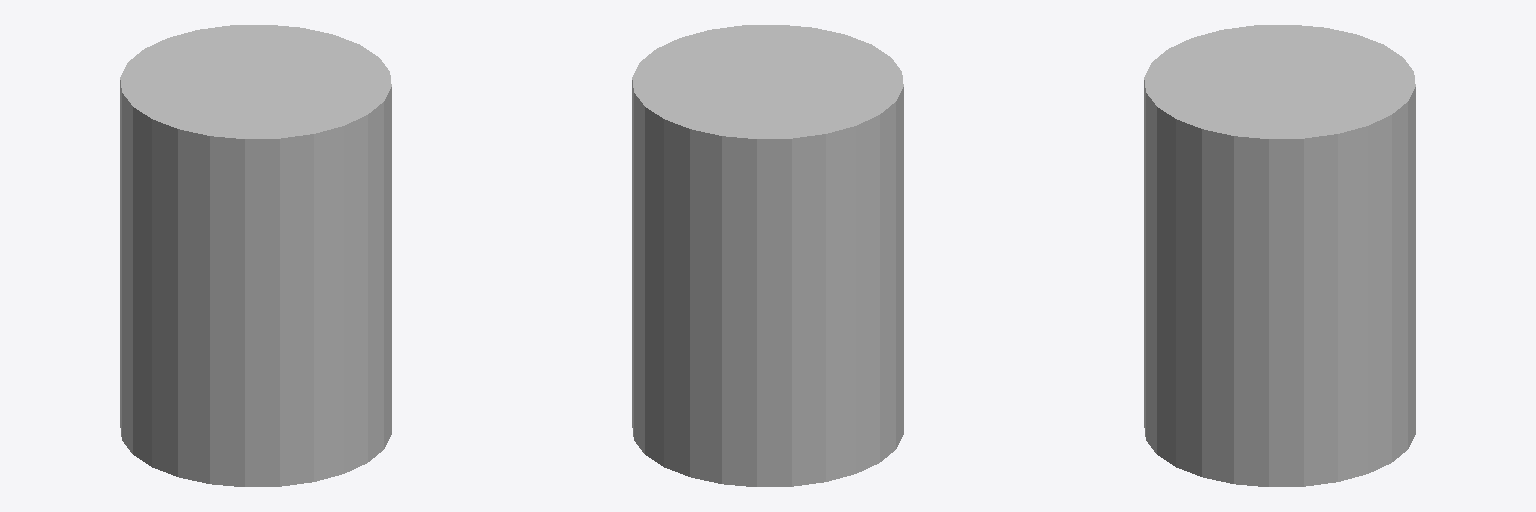
File: cilindro.obj
The picture shows the model from 3 angles: view 1: azimuth 30°, elevation 25°; view 2: azimuth 150°, elevation 25°; view 3: azimuth 270°, elevation 25°; orthographic projection.
Visible parts, largest first — view 1: Mesh1 Model; view 2: Mesh1 Model; view 3: Mesh1 Model.
Boxes of the visible parts, x1,y1,x2,y2 form: Mesh1 Model: [120, 25, 391, 486]; Mesh1 Model: [632, 25, 903, 486]; Mesh1 Model: [1144, 25, 1415, 486].
Size of the model in its own units: 1.99 by 2.82 by 1.99.